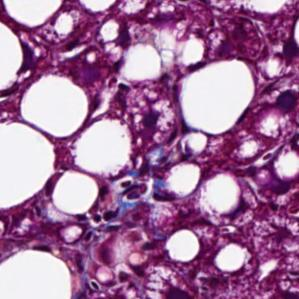inflammation: (104, 78, 178, 136), (83, 209, 125, 247), (220, 196, 259, 228)
